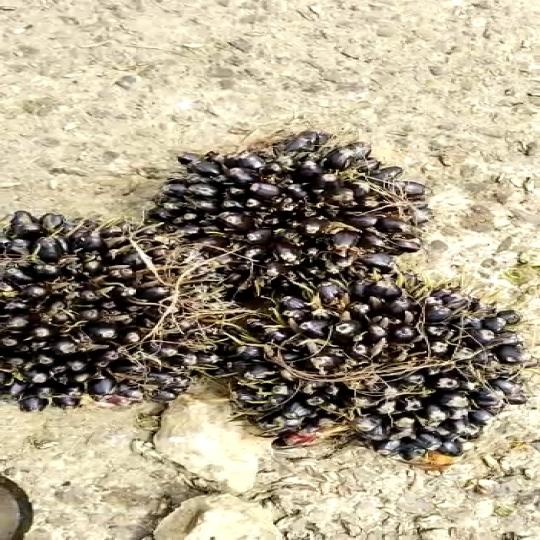mentah: (221, 265, 540, 477), (162, 100, 465, 292), (0, 188, 251, 408)
